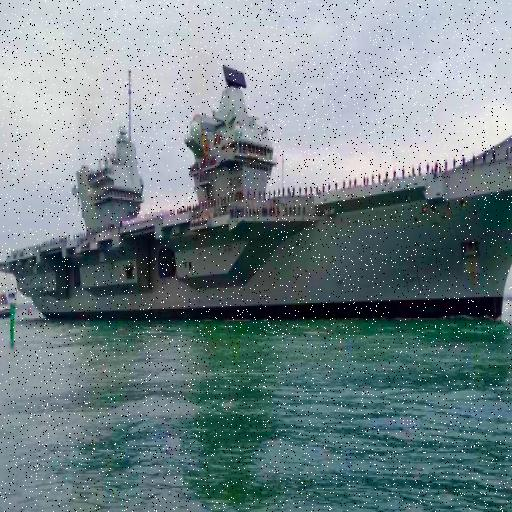Portanaves: (1, 57, 512, 330)
